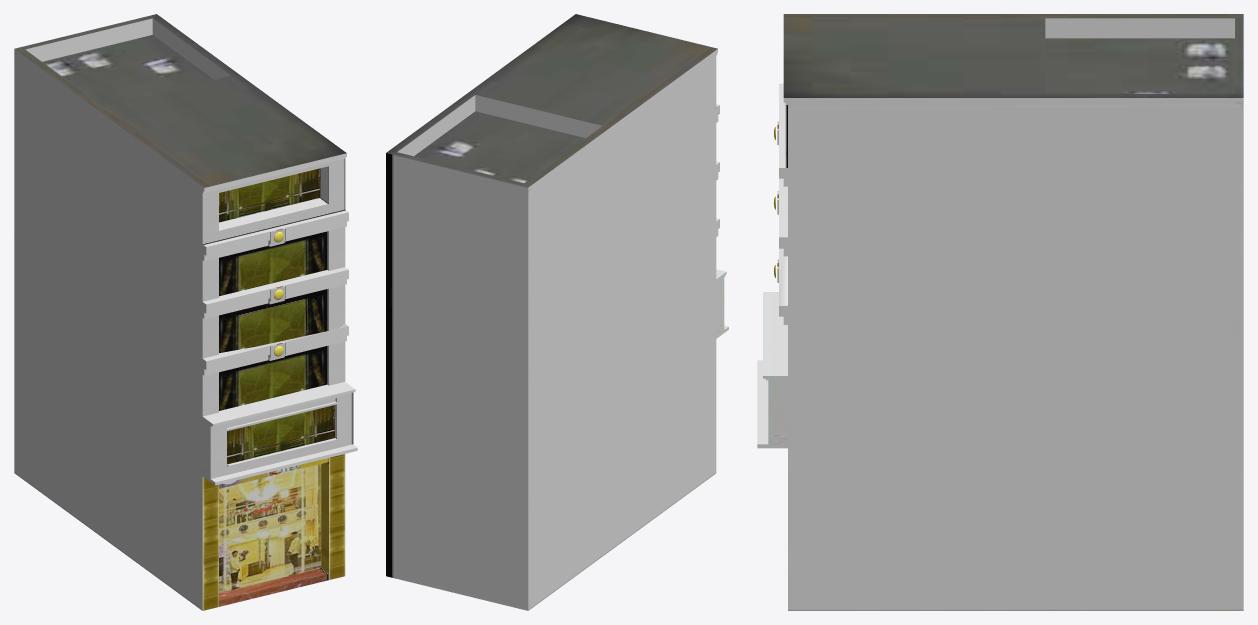
The picture shows the model from 3 angles, left to right: view 1: azimuth 30°, elevation 25°; view 2: azimuth 150°, elevation 25°; view 3: azimuth 270°, elevation 25°; orthographic projection. The views are drawn at different scales.
Parts seen in each view (by area): view 1: HN115___Skylark_Hotel; view 2: HN115___Skylark_Hotel; view 3: HN115___Skylark_Hotel.
Boxes of the visible parts, bbox=[...] form: HN115___Skylark_Hotel: bbox=[14, 14, 357, 610]; HN115___Skylark_Hotel: bbox=[386, 14, 728, 610]; HN115___Skylark_Hotel: bbox=[757, 14, 1243, 610].
Size of the model in its own units: 8.3 by 23.6 by 20.27.
1 material, 1 textured.
